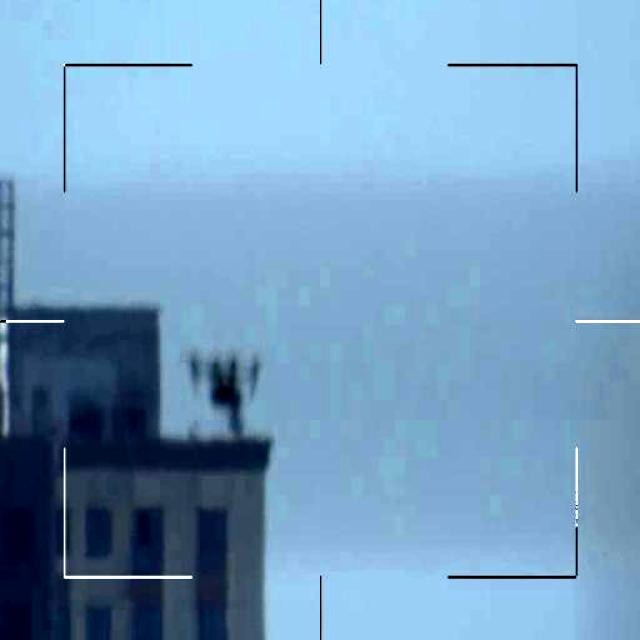bird: (184, 351, 258, 439)
